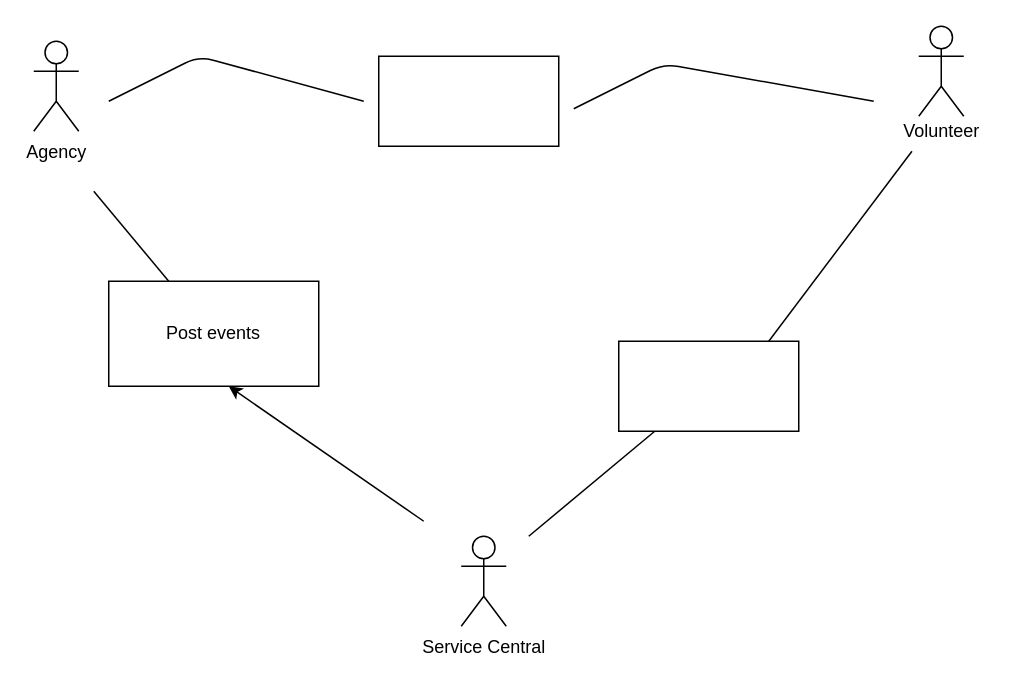
Image size: 1019x684. Some labels were removed from this diagram. The centre of each missing label's shape, as x and y in pixels:
"creates and host the event" belongs at point 468,100.
"signup opportunities" belongs at point 708,385.
